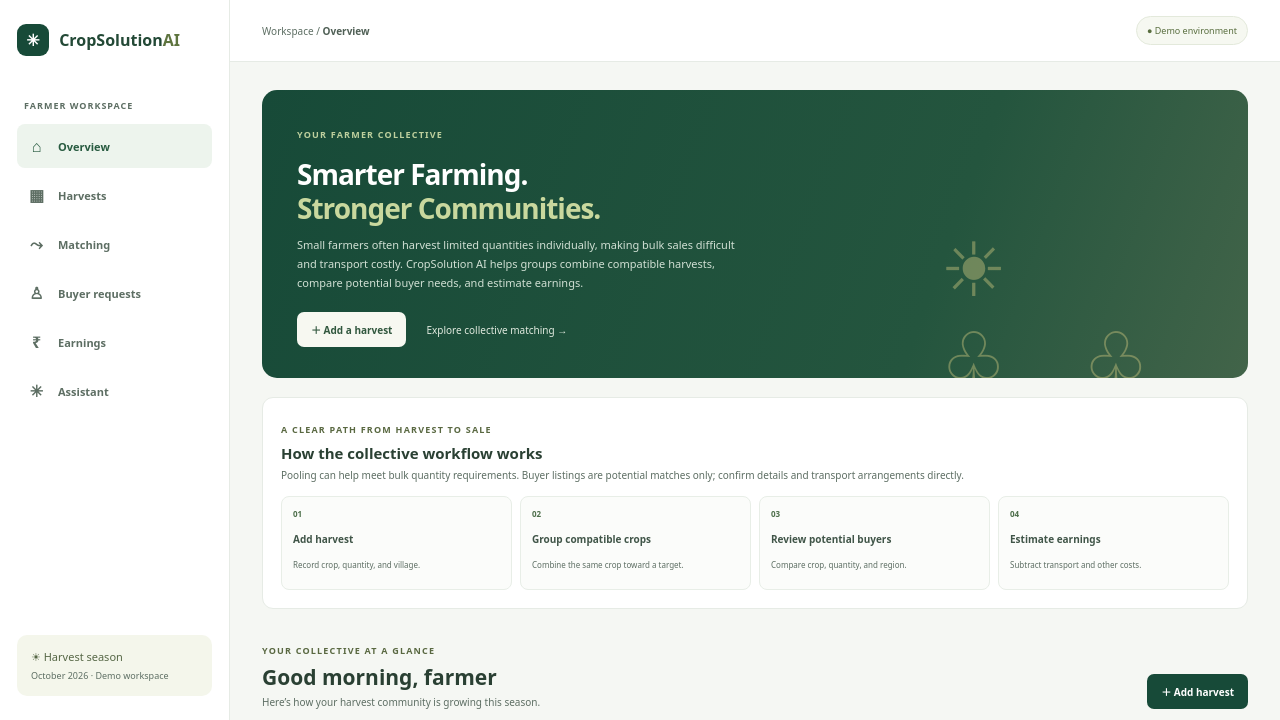
Scenario: CropSolution AI workflow › shows a clear shortfall and no buyer match when pooled harvest is insufficient
Click the button "⤳ Matching" at coordinates (114, 244), box [17,222,212,266]
(page scrolled)
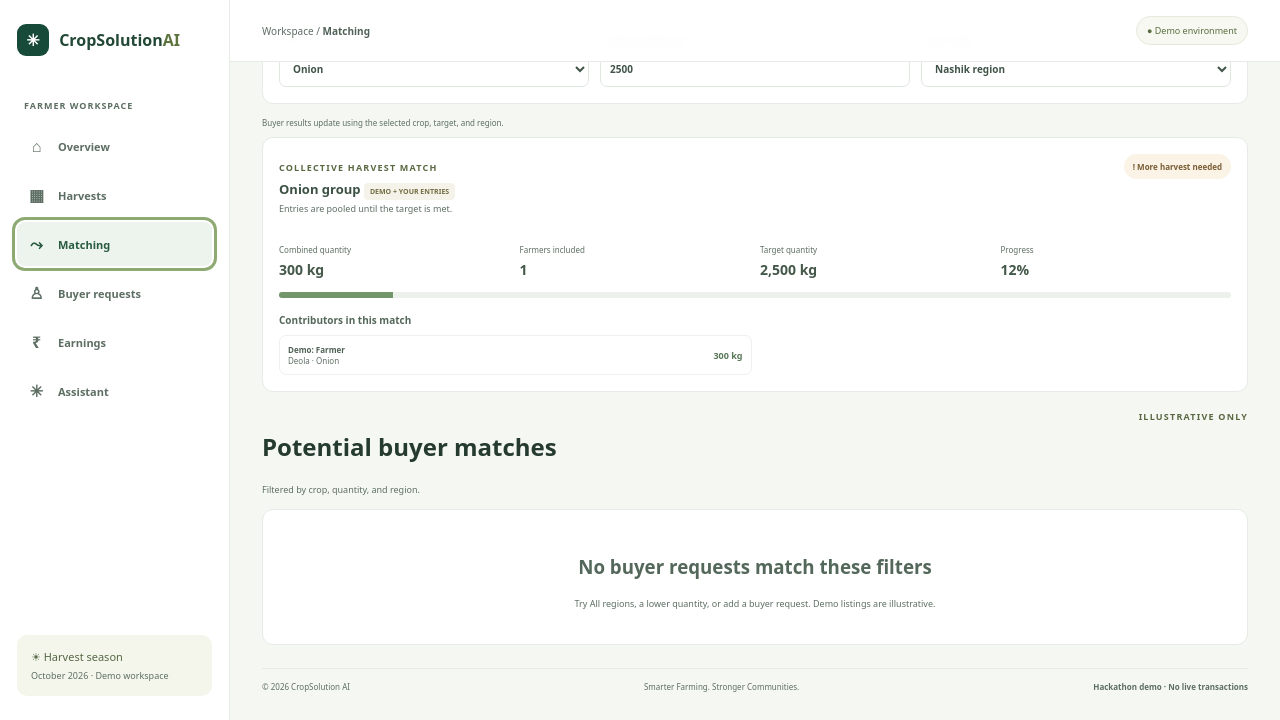
Expected: the text "! More harvest needed" is shown, [1124,154,1231,179]
Expected: the element with class "metrics" shows "300 kg", [279,244,1034,279]
Expected: the heading "No buyer requests match these filters" is shown, [578,554,932,578]
